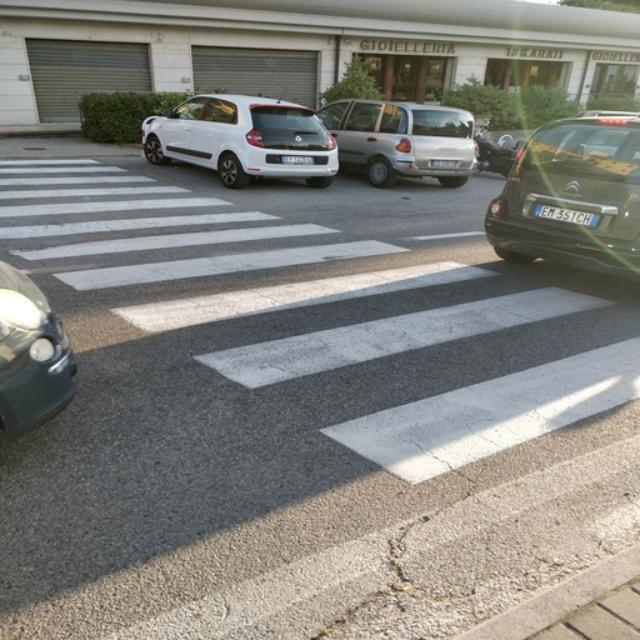sidewalk: (0, 153, 640, 508)
